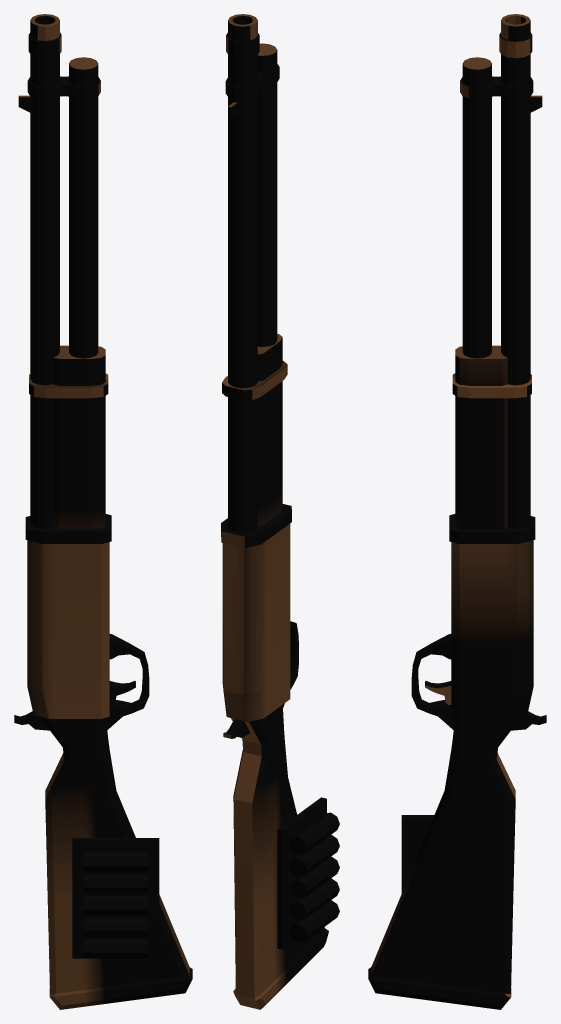
The model's file is Win1897__ShellHolder_Butt.fbx.
3 views of the same model, side by side, from view 1: azimuth 90°, elevation 25°; view 2: azimuth 150°, elevation 25°; view 3: azimuth 270°, elevation 25° (orthographic).
Parts seen in each view (by area): view 1: asset_Win1897.001; view 2: asset_Win1897.001; view 3: asset_Win1897.001.
Part boxes in pixels (box(x1,y1,x2,y2)): asset_Win1897.001: box(14, 14, 192, 1009); asset_Win1897.001: box(221, 14, 339, 1009); asset_Win1897.001: box(368, 14, 546, 1009).
Size of the model in its own units: 0.0413 by 0.6 by 0.0985.
